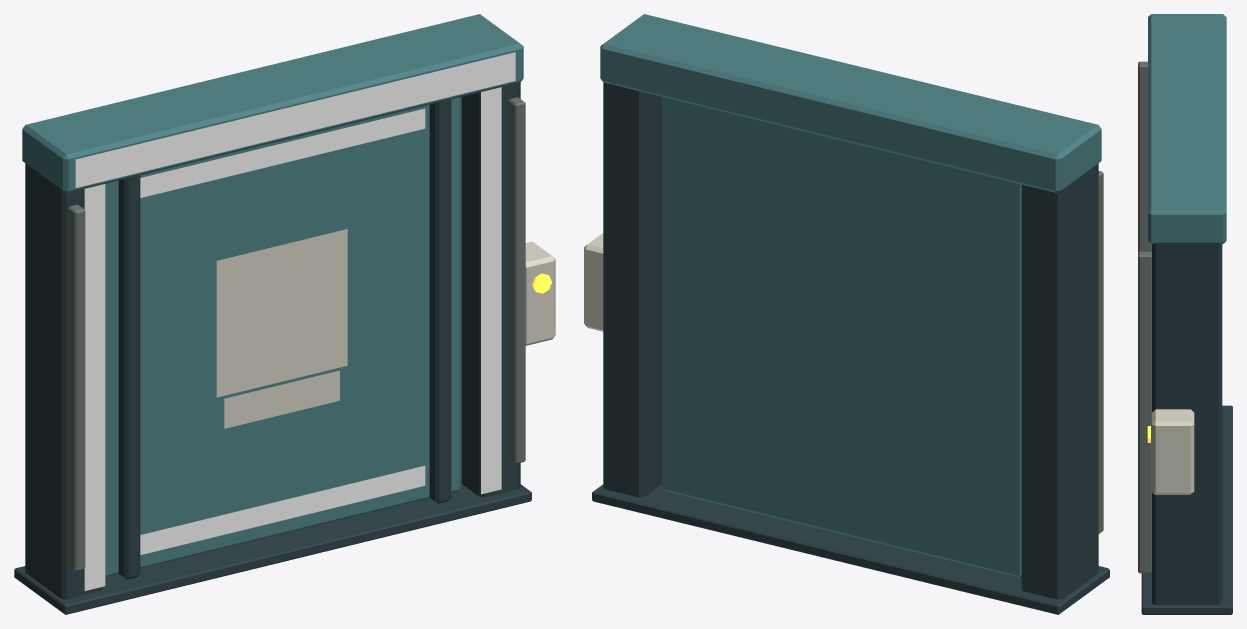
Rendered from sliding-bulkhead.glb.
3 renders of one model, left to right at view 1: azimuth 30°, elevation 25°; view 2: azimuth 150°, elevation 25°; view 3: azimuth 270°, elevation 25°, orthographic. The views are drawn at different scales.
Parts seen in each view (by area): view 1: sliding-bulkhead__bulkhead-leaf__petrol, sliding-bulkhead__sliding-bulkhead__steel, sliding-bulkhead__sliding-bulkhead__decal-hazard, sliding-bulkhead__sliding-bulkhead__petrol, sliding-bulkhead__bulkhead-leaf__decal-ivory, sliding-bulkhead__bulkhead-leaf__steel, sliding-bulkhead__sliding-bulkhead__hardware, sliding-bulkhead__bulkhead-leaf__decal-hazard, sliding-bulkhead__sliding-bulkhead__ivory; view 2: sliding-bulkhead__bulkhead-leaf__petrol, sliding-bulkhead__sliding-bulkhead__steel, sliding-bulkhead__sliding-bulkhead__petrol, sliding-bulkhead__sliding-bulkhead__hardware, sliding-bulkhead__sliding-bulkhead__ivory; view 3: sliding-bulkhead__sliding-bulkhead__steel, sliding-bulkhead__sliding-bulkhead__petrol, sliding-bulkhead__sliding-bulkhead__hardware, sliding-bulkhead__sliding-bulkhead__ivory.
Part boxes in pixels (bbox=[...]): sliding-bulkhead__bulkhead-leaf__petrol: bbox=[105, 97, 461, 577]; sliding-bulkhead__sliding-bulkhead__steel: bbox=[14, 82, 531, 614]; sliding-bulkhead__sliding-bulkhead__decal-hazard: bbox=[75, 52, 515, 590]; sliding-bulkhead__sliding-bulkhead__petrol: bbox=[22, 14, 523, 193]; sliding-bulkhead__bulkhead-leaf__decal-ivory: bbox=[216, 229, 347, 428]; sliding-bulkhead__bulkhead-leaf__steel: bbox=[118, 99, 451, 579]; sliding-bulkhead__sliding-bulkhead__hardware: bbox=[68, 97, 525, 570]; sliding-bulkhead__bulkhead-leaf__decal-hazard: bbox=[140, 108, 425, 554]; sliding-bulkhead__sliding-bulkhead__ivory: bbox=[525, 241, 555, 345]; sliding-bulkhead__bulkhead-leaf__petrol: bbox=[662, 97, 1021, 577]; sliding-bulkhead__sliding-bulkhead__steel: bbox=[592, 82, 1109, 614]; sliding-bulkhead__sliding-bulkhead__petrol: bbox=[600, 14, 1101, 193]; sliding-bulkhead__sliding-bulkhead__hardware: bbox=[1098, 171, 1103, 533]; sliding-bulkhead__sliding-bulkhead__ivory: bbox=[584, 233, 603, 331]; sliding-bulkhead__sliding-bulkhead__steel: bbox=[1141, 243, 1232, 614]; sliding-bulkhead__sliding-bulkhead__petrol: bbox=[1148, 14, 1226, 244]; sliding-bulkhead__sliding-bulkhead__hardware: bbox=[1138, 61, 1151, 573]; sliding-bulkhead__sliding-bulkhead__ivory: bbox=[1152, 409, 1194, 494].
Size of the model in its own units: 3.62 by 3.16 by 0.675.
